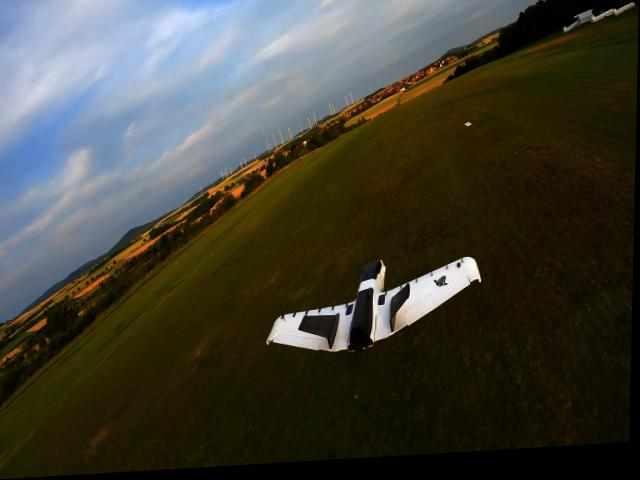plane: (268, 259, 483, 357)
